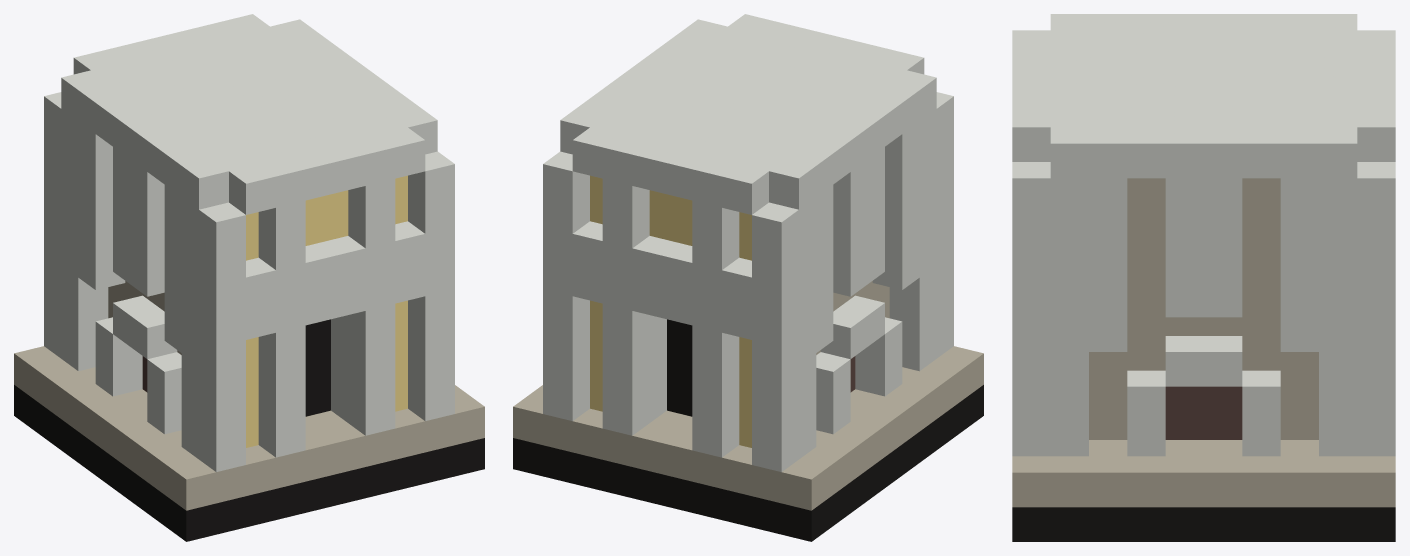
The model's file is building5.obj.
3 renders of one model, left to right at view 1: azimuth 30°, elevation 25°; view 2: azimuth 150°, elevation 25°; view 3: azimuth 270°, elevation 25°, orthographic. The views are drawn at different scales.
Size of the model in its own units: 1 by 1.1 by 1.
1 material, 1 textured.
